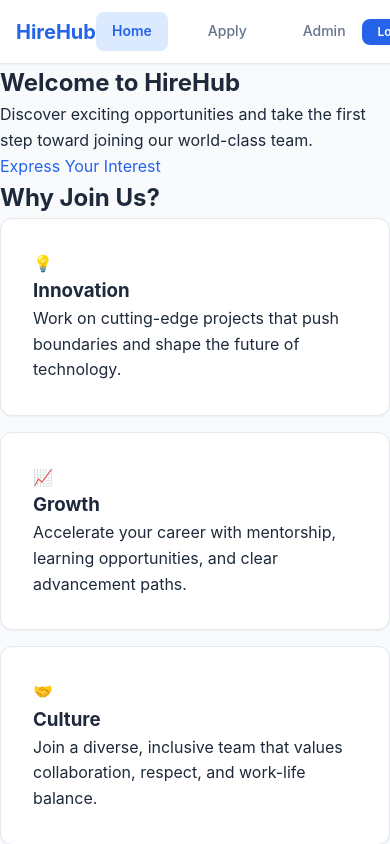
Test case: App › Interest form route › renders department select with all options
Click the link "Apply": (227, 31) [208,22,247,39]
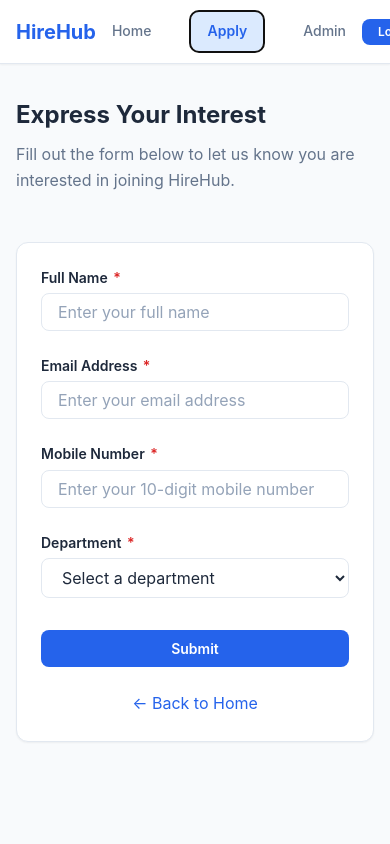
Now the dropdown labelled "Department *" is shown, box [41,558,349,598]
